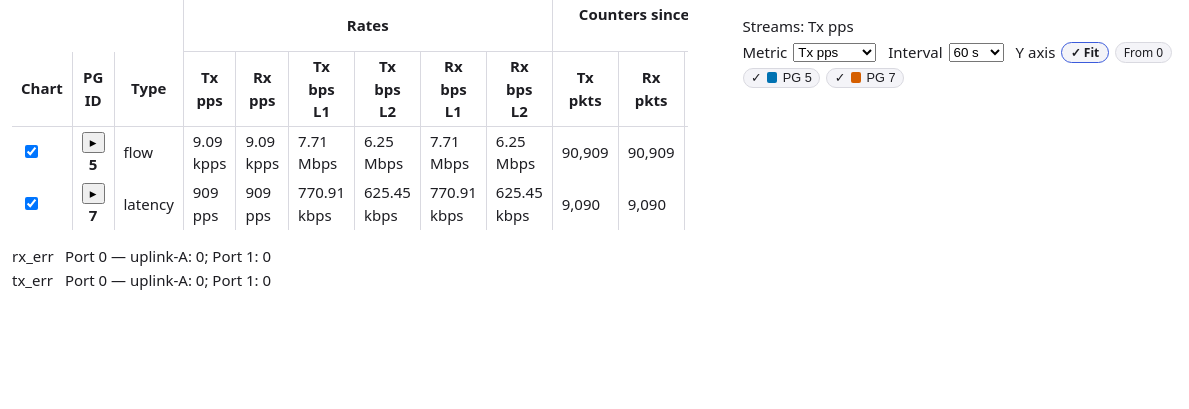
Test: StreamsTab table › expands a row to per-port values headed by the port title
Click the button named "PG ID 5 ports". click: [93, 142]
box: [82, 132, 104, 152]
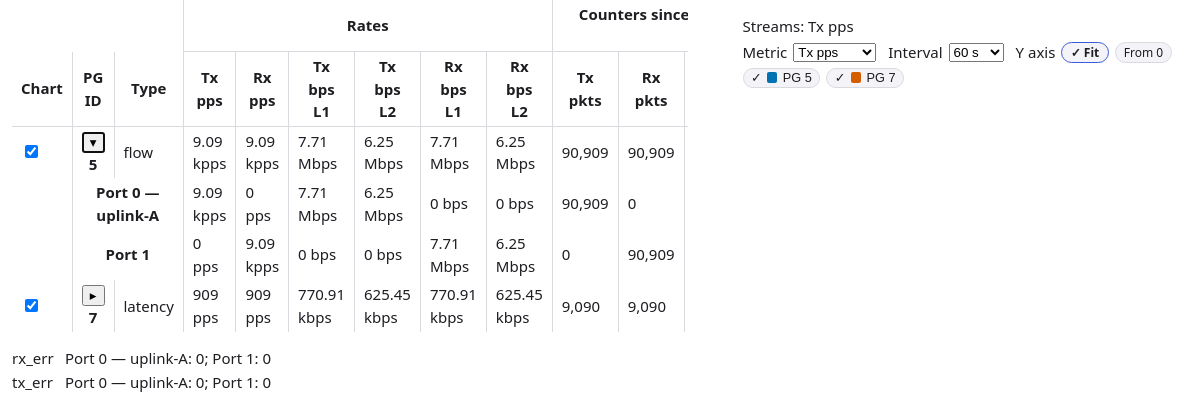
Check: the 3rd text "9.09 kpps" is shown, box [183, 178, 236, 229]
Check: the column heading "Port 1" is shown, box [72, 229, 183, 280]
